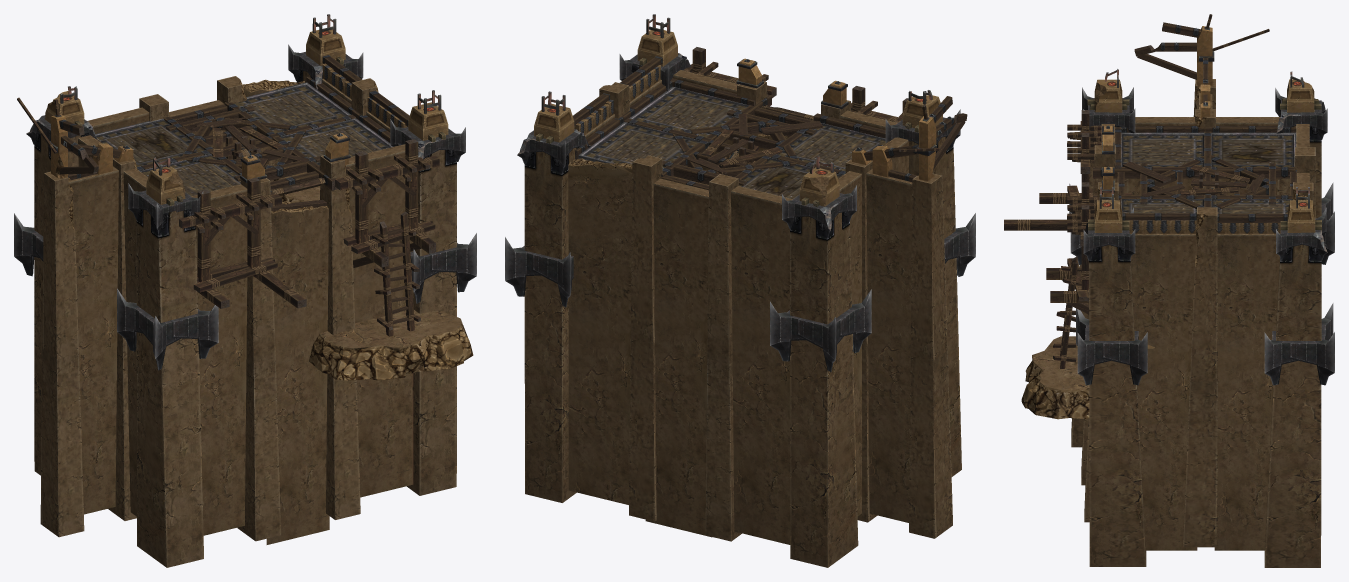
Rendered from Cell2UD.fbx.
3 renders of one model, left to right at view 1: azimuth 30°, elevation 25°; view 2: azimuth 150°, elevation 25°; view 3: azimuth 270°, elevation 25°, orthographic. The views are drawn at different scales.
Visible parts, largest first — view 1: Cell2UD; view 2: Cell2UD; view 3: Cell2UD.
Part boxes in pixels (x1,y1,x2,y2): Cell2UD: [14, 14, 476, 567]; Cell2UD: [505, 14, 975, 567]; Cell2UD: [1004, 14, 1334, 567].
Bounding box in the file's own units: 19.53 × 22.66 × 16.36.
